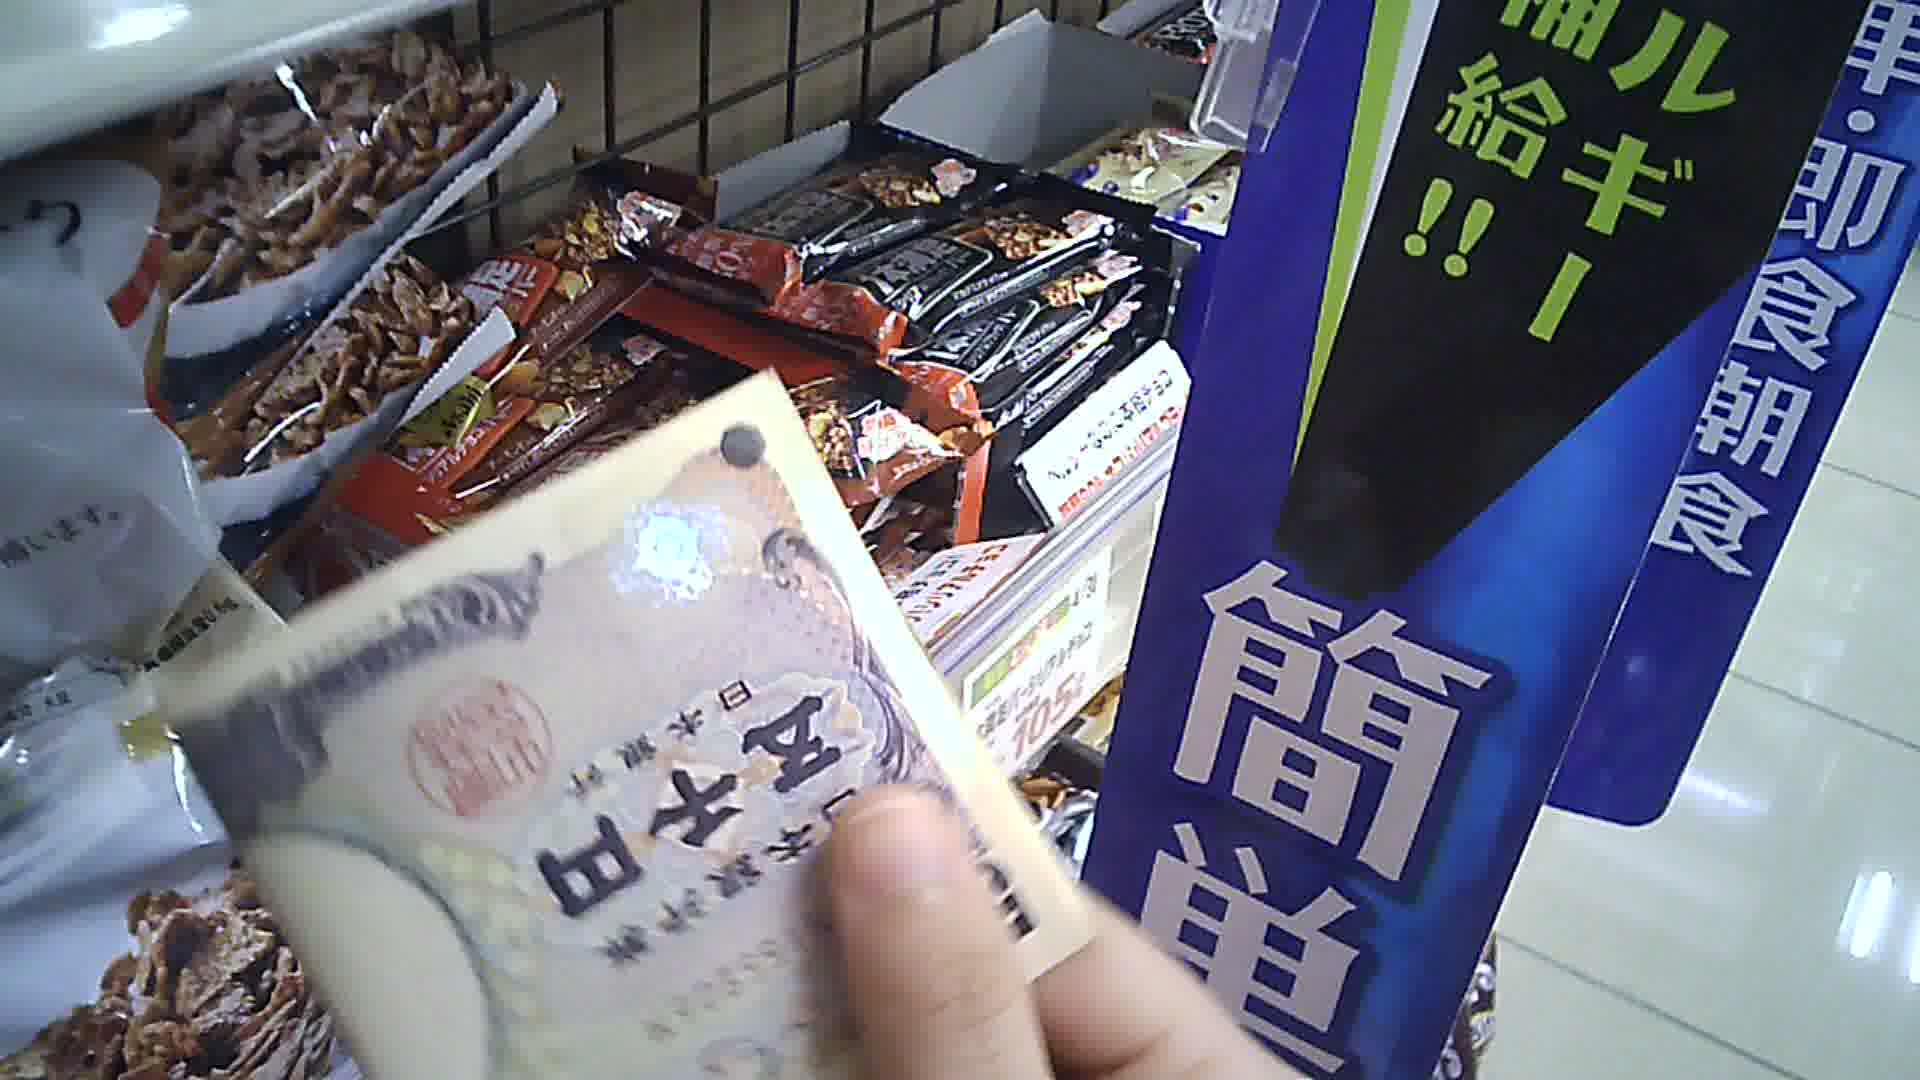5,000 Yen: (144, 365, 1033, 1036)
